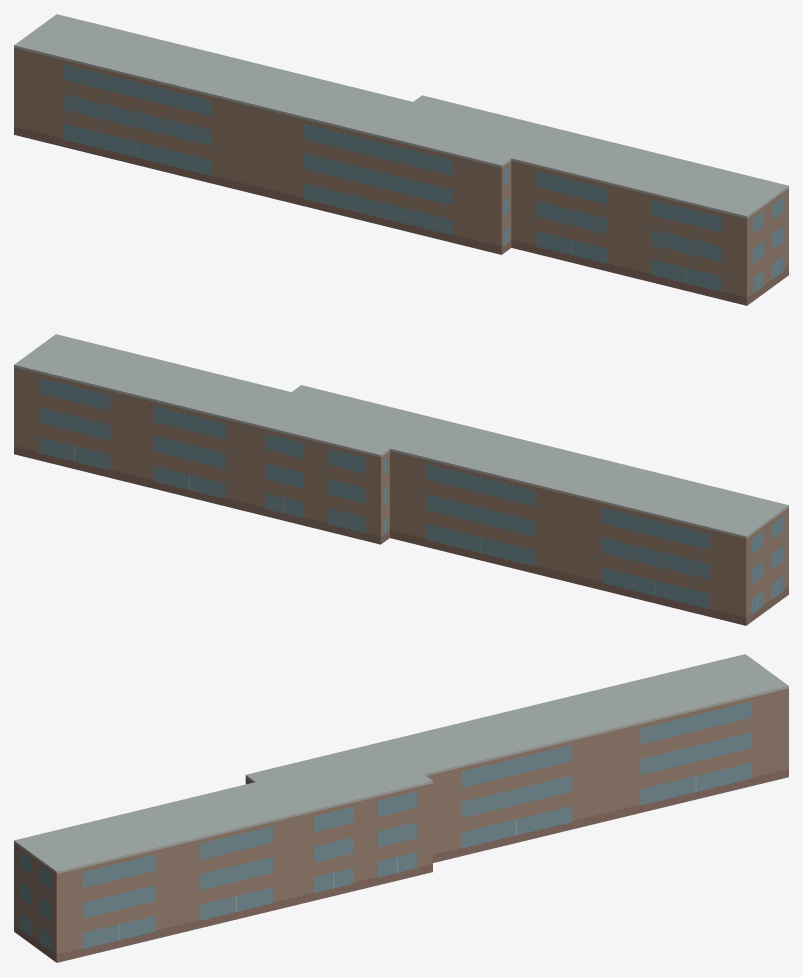
The model's file is survey-upis-32805215.glb.
3 renders of one model, top to bottom at view 1: azimuth 30°, elevation 25°; view 2: azimuth 210°, elevation 25°; view 3: azimuth 270°, elevation 25°, orthographic.
Parts seen in each view (by area): view 1: survey-upis-32805215.tmp; view 2: survey-upis-32805215.tmp; view 3: survey-upis-32805215.tmp.
Boxes of the visible parts, box(x1,y1,x2,y2) form: survey-upis-32805215.tmp: box(14, 14, 788, 305); survey-upis-32805215.tmp: box(14, 334, 788, 625); survey-upis-32805215.tmp: box(14, 654, 788, 962).
Size of the model in its own units: 46.82 by 9.15 by 70.43.
